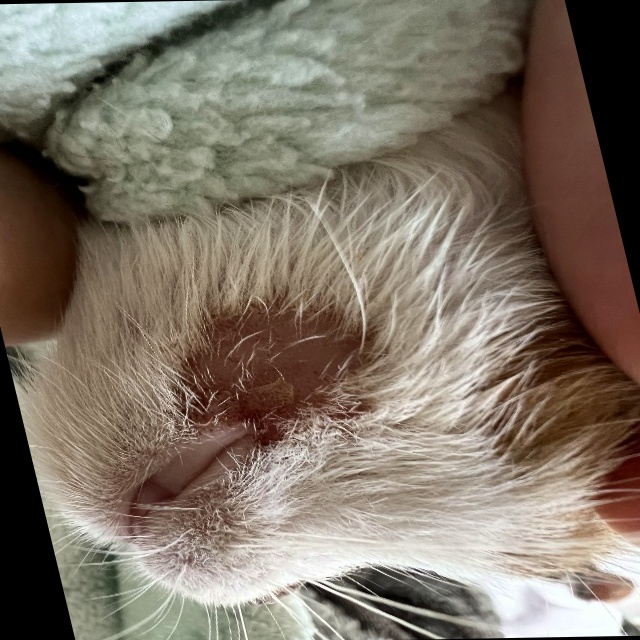ringworm: (166, 310, 405, 432)
